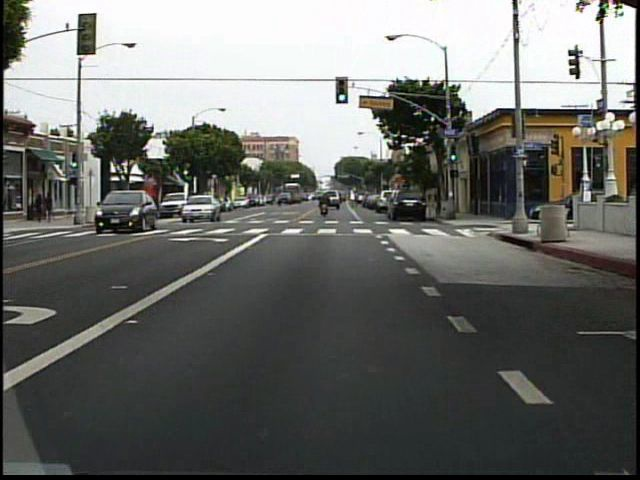person: (35, 192, 48, 225), (47, 190, 58, 222), (318, 189, 330, 218)
